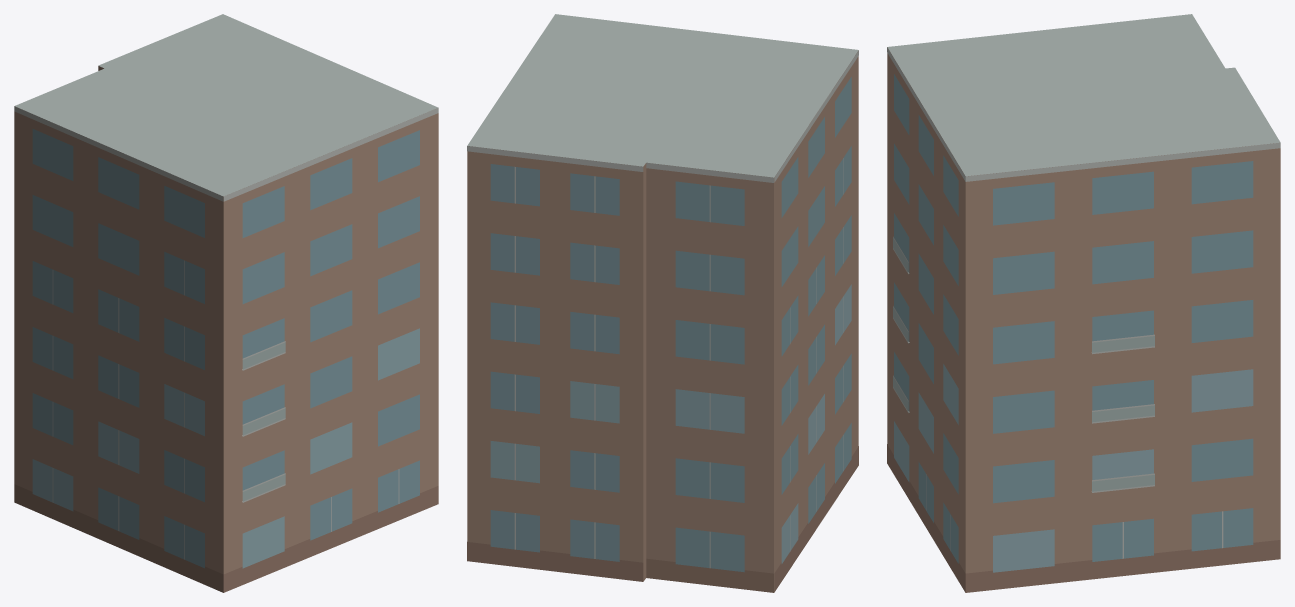
The model's file is survey-upis-32792294.glb.
3 views of the same model, side by side, from view 1: azimuth 30°, elevation 25°; view 2: azimuth 150°, elevation 25°; view 3: azimuth 270°, elevation 25° (orthographic). The views are drawn at different scales.
Visible parts, largest first — view 1: survey-upis-32792294.tmp; view 2: survey-upis-32792294.tmp; view 3: survey-upis-32792294.tmp.
Boxes of the visible parts, x1,y1,x2,y2 form: survey-upis-32792294.tmp: (14, 14, 438, 592); survey-upis-32792294.tmp: (467, 14, 858, 592); survey-upis-32792294.tmp: (887, 14, 1280, 592).
Size of the model in its own units: 15.31 by 18.3 by 15.68.
